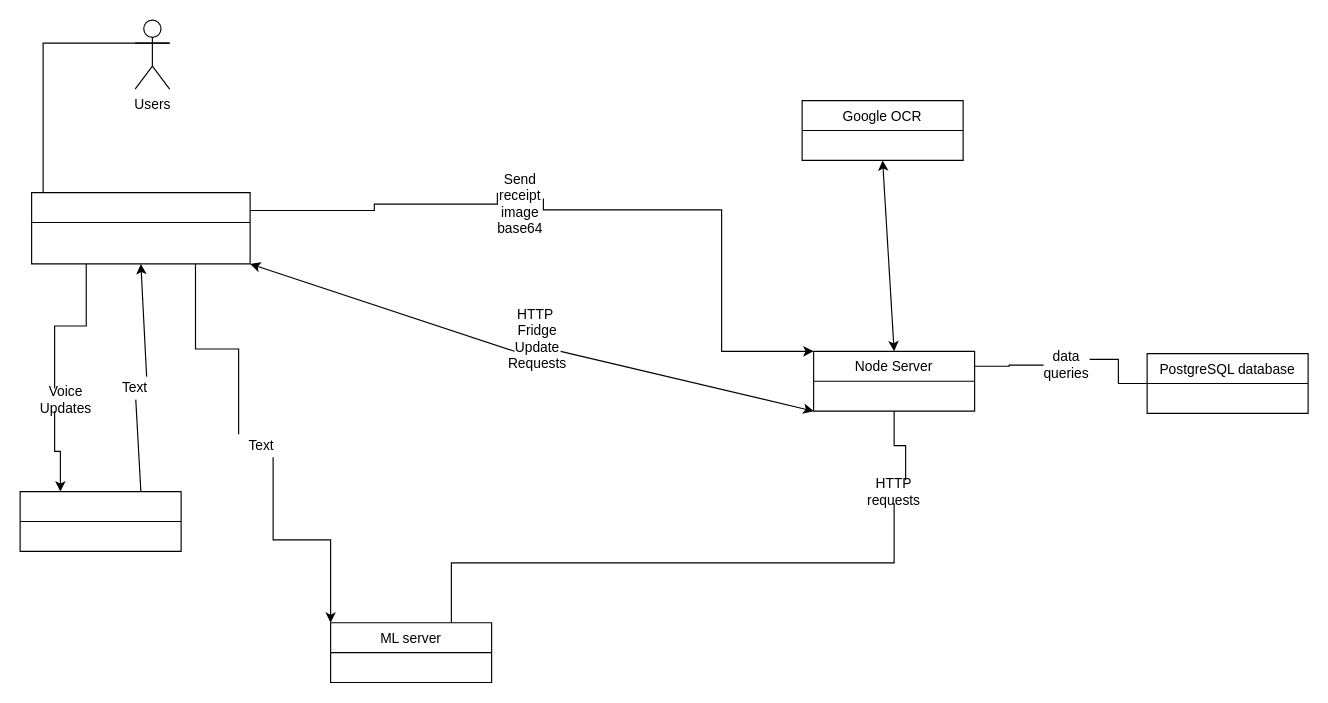
The diagram is 1328 pixels wide and 703 high, and some of its shapes have lost their labels. The shapes that lost their labels are listed below. From the top down, each one's centre as x and y in pixels, then its label:
the point at 140,227: User Interface
the point at 100,520: Amazon API
